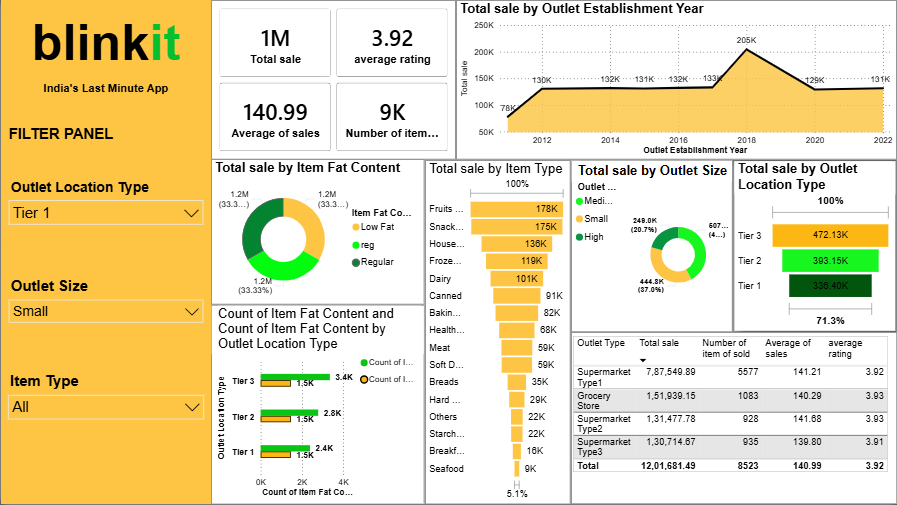

Layout of this report page (visuals, bound fields, positions):
{"tool":"powerbi","page":{"name":"Page 1","canvas":[1280,720],"ordinal":0},"visuals":[{"type":"cardVisual","fields":{"Data":["BlinkIT Grocery Data.Total sale","BlinkIT Grocery Data.average rating","BlinkIT Grocery Data.Average of sales","BlinkIT Grocery Data.Number of item of sold"]},"box":[300,0,350,228.3],"z":0},{"type":"funnel","fields":{"Category":["BlinkIT Grocery Data.Outlet Location Type"],"Y":["BlinkIT Grocery Data.Total sale"]},"box":[1046.1,228.1,233.9,245.5],"z":1000},{"type":"donutChart","fields":{"Category":["BlinkIT Grocery Data.Outlet Size"],"Y":["BlinkIT Grocery Data.Total sale"]},"box":[814.3,228.6,231.4,245.7],"z":2000},{"type":"slicer","title":"Outlet size","fields":{"Values":["BlinkIT Grocery Data.Outlet Size"]},"box":[43.9,389.5,256,193.8],"z":3000},{"type":"textbox","box":[0,0,300,720],"z":5000},{"type":"clusteredBarChart","fields":{"Category":["BlinkIT Grocery Data.Outlet Location Type"],"Y":["CountNonNull(BlinkIT Grocery Data.Item Fat Content)","CountNonNull(Table1.Item Fat Content)"]},"box":[300,435,305,285],"z":6000},{"type":"slicer","fields":{"Values":["Table1.Outlet Location Type"]},"box":[0,250.5,299.9,98.7],"z":7000},{"type":"slicer","fields":{"Values":["Table1.Outlet Size"]},"box":[0,389.5,299.9,106.1],"z":8000},{"type":"slicer","fields":{"Values":["Table1.Item Type"]},"box":[0,526.6,299.9,104.2],"z":9000},{"type":"lineChart","fields":{"Category":["BlinkIT Grocery Data.Outlet Establishment Year"],"Y":["BlinkIT Grocery Data.Total sale"]},"box":[650,0,630,228],"z":10000},{"type":"donutChart","fields":{"Category":["Table1.Item Fat Content"],"Y":["BlinkIT Grocery Data.Total sale"]},"box":[300,226.7,305,208.3],"z":11000},{"type":"funnel","fields":{"Category":["BlinkIT Grocery Data.Item Type"],"Y":["BlinkIT Grocery Data.Total sale"]},"box":[605,228.3,208.3,491.7],"z":12000},{"type":"tableEx","fields":{"Values":["BlinkIT Grocery Data.Outlet Type","BlinkIT Grocery Data.Total sale","BlinkIT Grocery Data.Number of item of sold","BlinkIT Grocery Data.Average of sales","BlinkIT Grocery Data.average rating"]},"box":[814.3,474.3,465.7,245.7],"z":12001}]}

Visuals, with their boxes in screenshot pixels (x1, y1, x2, y2), scaled from the page's 1280x720 canvas onto the 897x505 screenshot:
cardVisual - BlinkIT Grocery Data.Total sale x BlinkIT Grocery Data.average rating: bbox(210, 0, 456, 160)
funnel - BlinkIT Grocery Data.Outlet Location Type x BlinkIT Grocery Data.Total sale: bbox(733, 160, 896, 332)
donutChart - BlinkIT Grocery Data.Outlet Size x BlinkIT Grocery Data.Total sale: bbox(571, 160, 733, 333)
"Outlet size" slicer: bbox(31, 273, 210, 409)
textbox: bbox(0, 0, 210, 504)
clusteredBarChart - BlinkIT Grocery Data.Outlet Location Type x CountNonNull(BlinkIT Grocery Data.Item Fat Content): bbox(210, 305, 424, 504)
slicer - Table1.Outlet Location Type: bbox(0, 176, 210, 245)
slicer - Table1.Outlet Size: bbox(0, 273, 210, 348)
slicer - Table1.Item Type: bbox(0, 369, 210, 442)
lineChart - BlinkIT Grocery Data.Outlet Establishment Year x BlinkIT Grocery Data.Total sale: bbox(456, 0, 896, 160)
donutChart - Table1.Item Fat Content x BlinkIT Grocery Data.Total sale: bbox(210, 159, 424, 305)
funnel - BlinkIT Grocery Data.Item Type x BlinkIT Grocery Data.Total sale: bbox(424, 160, 570, 504)
tableEx - BlinkIT Grocery Data.Outlet Type x BlinkIT Grocery Data.Total sale: bbox(571, 333, 896, 504)
